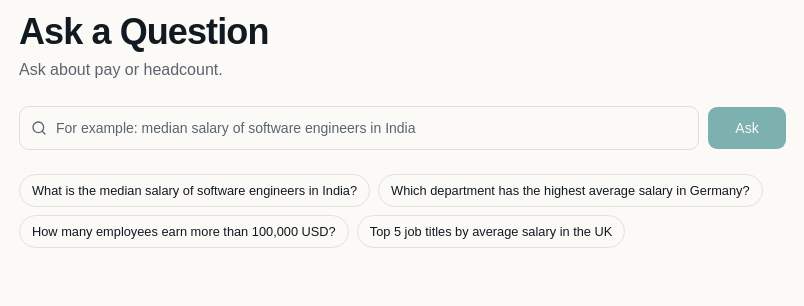
Test: asking › a single number needs no table
Type "how many employees" into the field named "Your question" at (359, 128), box [19,106,699,150]
Then press Enter
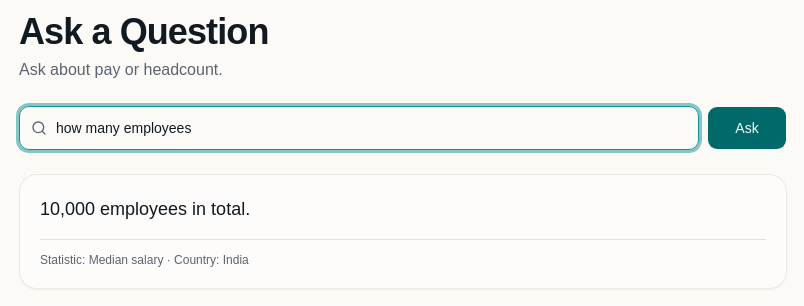
expect the text "10,000 employees in total." is shown: met, box [40,199,250,219]
